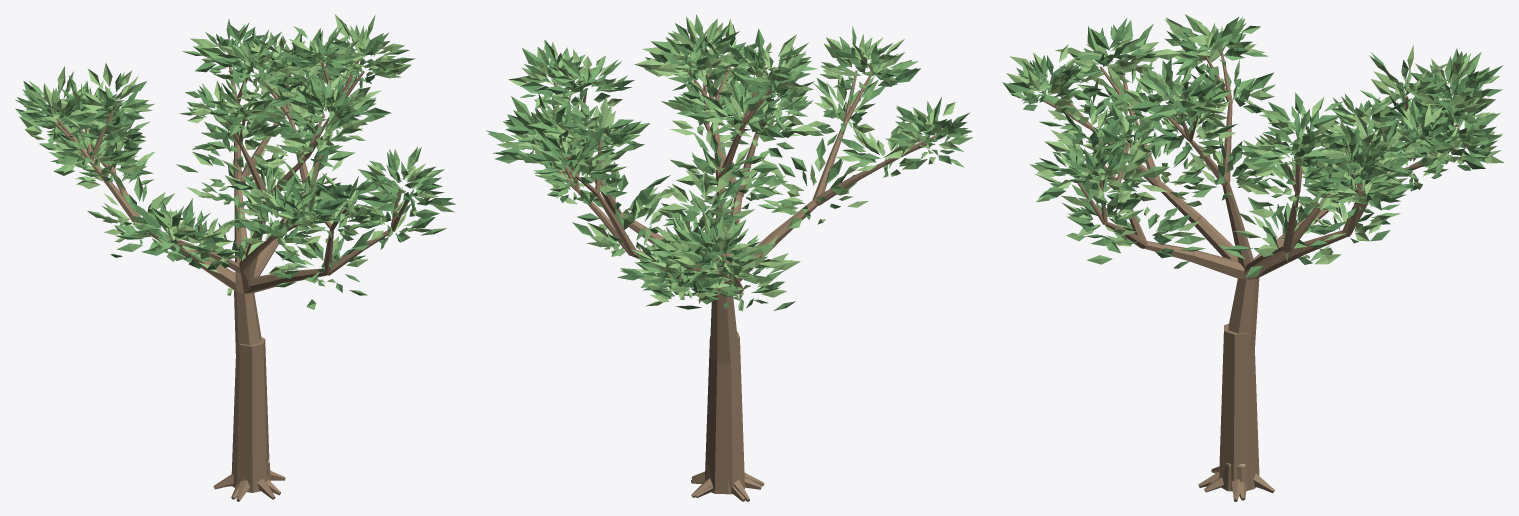
Rendered from plant-broadleaf-a.glb.
The picture shows the model from 3 angles, left to right: view 1: azimuth 30°, elevation 25°; view 2: azimuth 150°, elevation 25°; view 3: azimuth 270°, elevation 25°; orthographic projection. The views are drawn at different scales.
Parts seen in each view (by area): view 1: plant-broadleaf-a_standing_leafA, plant-broadleaf-a_standing_leafDark, plant-broadleaf-a_standing_leafB, plant-broadleaf-a_standing_bark; view 2: plant-broadleaf-a_standing_leafA, plant-broadleaf-a_standing_leafB, plant-broadleaf-a_standing_leafDark, plant-broadleaf-a_standing_bark, plant-broadleaf-a_stump_bark; view 3: plant-broadleaf-a_standing_leafA, plant-broadleaf-a_standing_leafB, plant-broadleaf-a_standing_leafDark, plant-broadleaf-a_standing_bark, plant-broadleaf-a_stump_bark.
Boxes of the visible parts, x1,y1,x2,y2 form: plant-broadleaf-a_standing_leafA: (17,14,446,309); plant-broadleaf-a_standing_leafDark: (15,21,455,292); plant-broadleaf-a_standing_leafB: (15,14,454,295); plant-broadleaf-a_standing_bark: (54,59,408,501); plant-broadleaf-a_standing_leafA: (487,14,972,310); plant-broadleaf-a_standing_leafB: (497,16,957,311); plant-broadleaf-a_standing_leafDark: (486,23,966,310); plant-broadleaf-a_standing_bark: (535,57,935,501); plant-broadleaf-a_stump_bark: (691,465,761,501); plant-broadleaf-a_standing_leafA: (1002,14,1501,268); plant-broadleaf-a_standing_leafB: (1006,19,1504,264); plant-broadleaf-a_standing_leafDark: (1008,17,1503,277); plant-broadleaf-a_standing_bark: (1043,51,1458,501); plant-broadleaf-a_stump_bark: (1204,463,1259,500).
Bounding box in the file's own units: 6.15 × 7.12 × 7.06.
